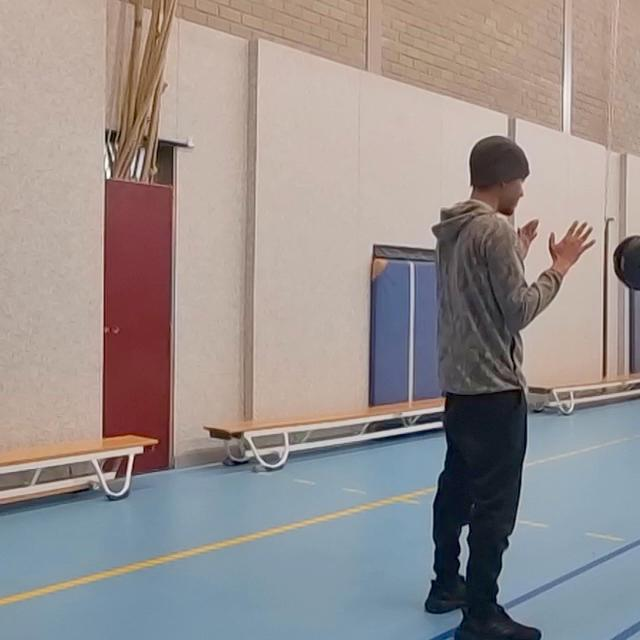paddle: (608, 232, 640, 299)
